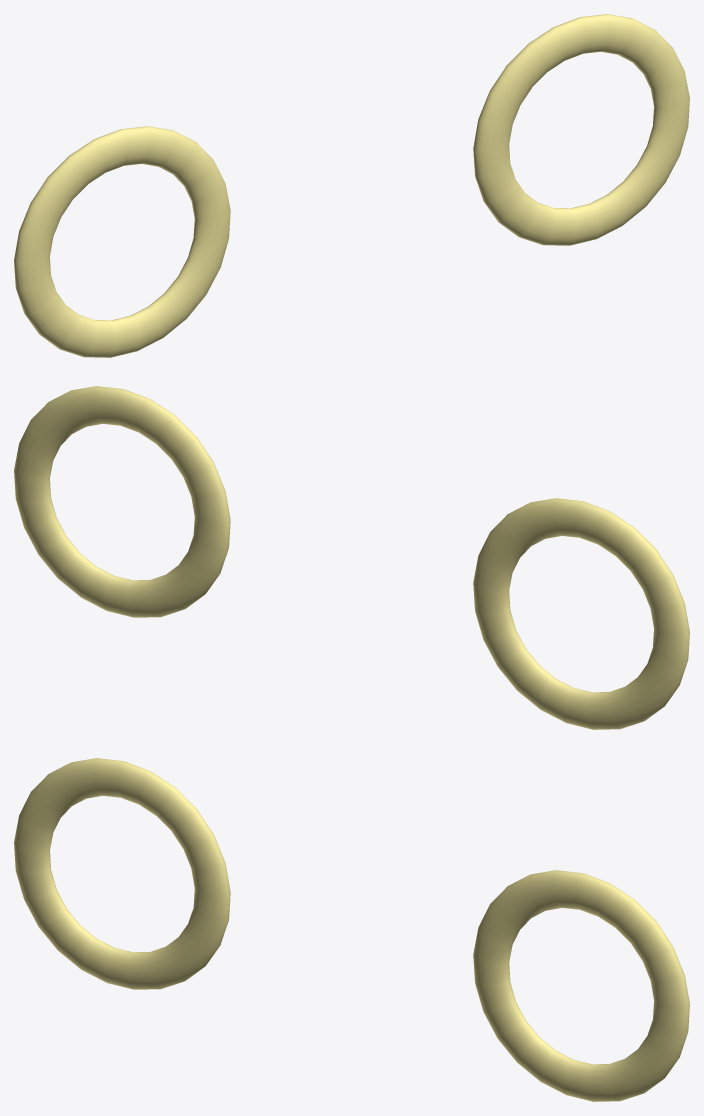
The model's file is o_ring.glb.
3 renders of one model, top to bottom at view 1: azimuth 30°, elevation 25°; view 2: azimuth 150°, elevation 25°; view 3: azimuth 330°, elevation 25°, orthographic.
Visible parts, largest first — view 1: cardcase_o_ring_097 (×2); view 2: cardcase_o_ring_097 (×2); view 3: cardcase_o_ring_097 (×2).
Part boxes in pixels (left/top/right/bottom): cardcase_o_ring_097 (×2): left=14, top=14, right=689, bottom=357; cardcase_o_ring_097 (×2): left=14, top=386, right=689, bottom=729; cardcase_o_ring_097 (×2): left=14, top=758, right=689, bottom=1101.
Size of the model in its own units: 0.047 by 0.015 by 0.00127.
